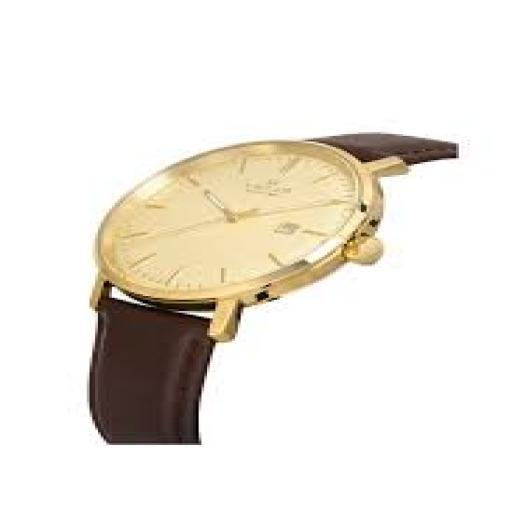KolSaati: (17, 80, 481, 464)
